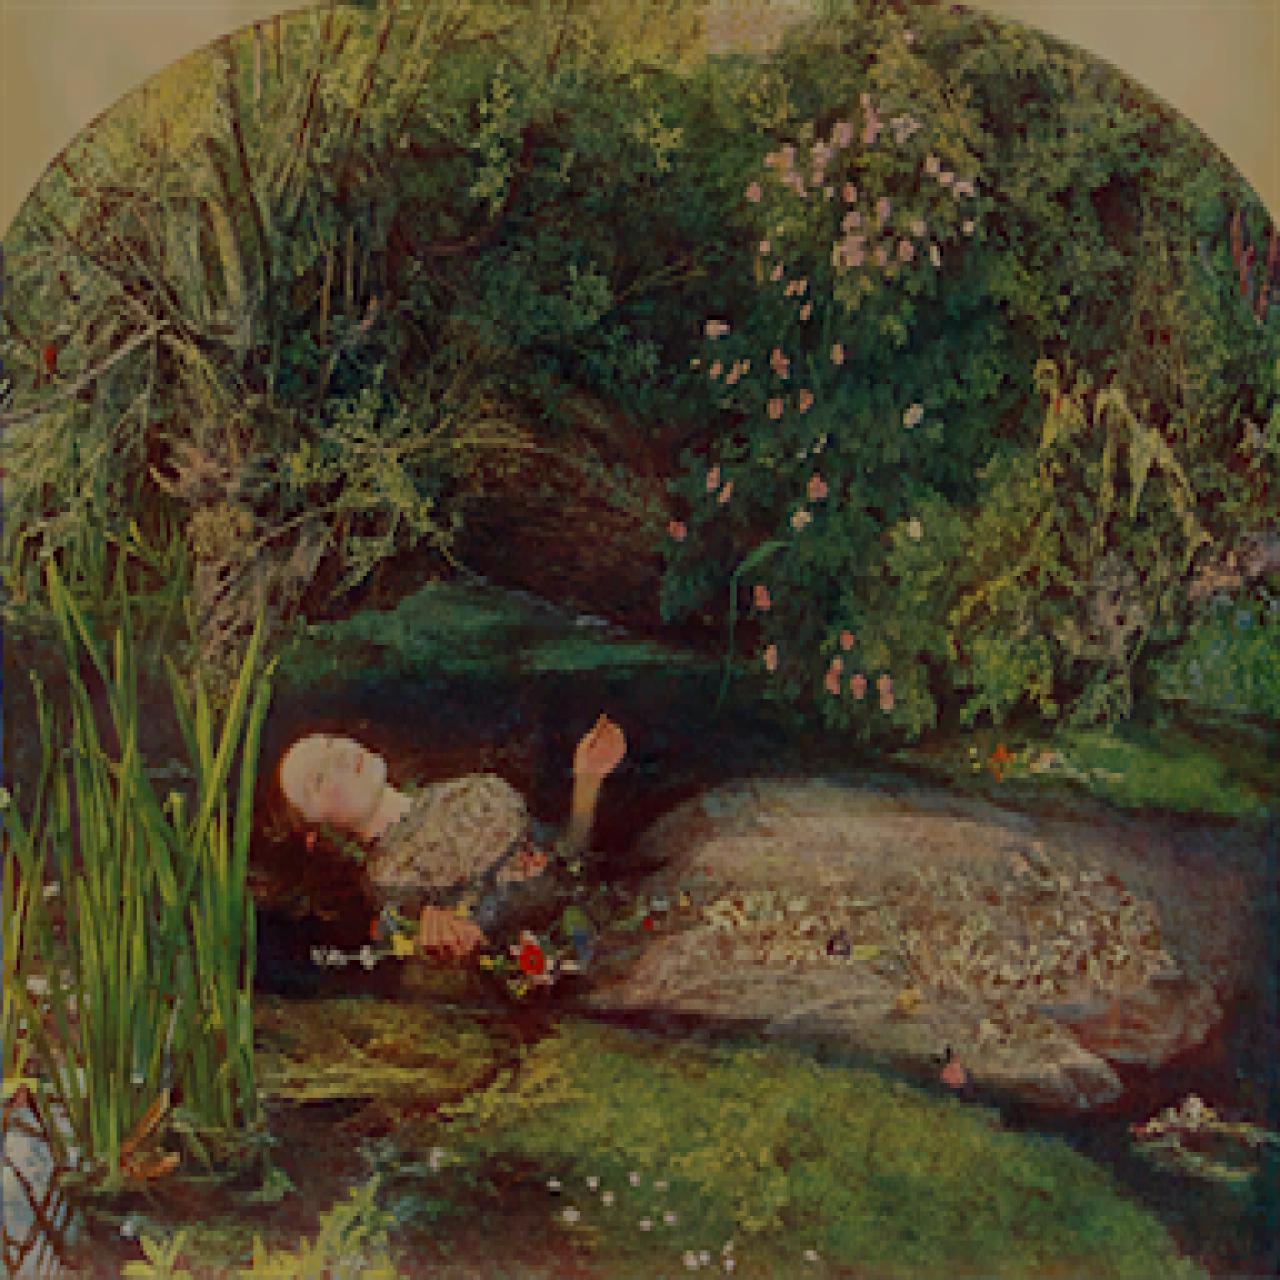Ophelia: (1, 1, 1278, 1276)
